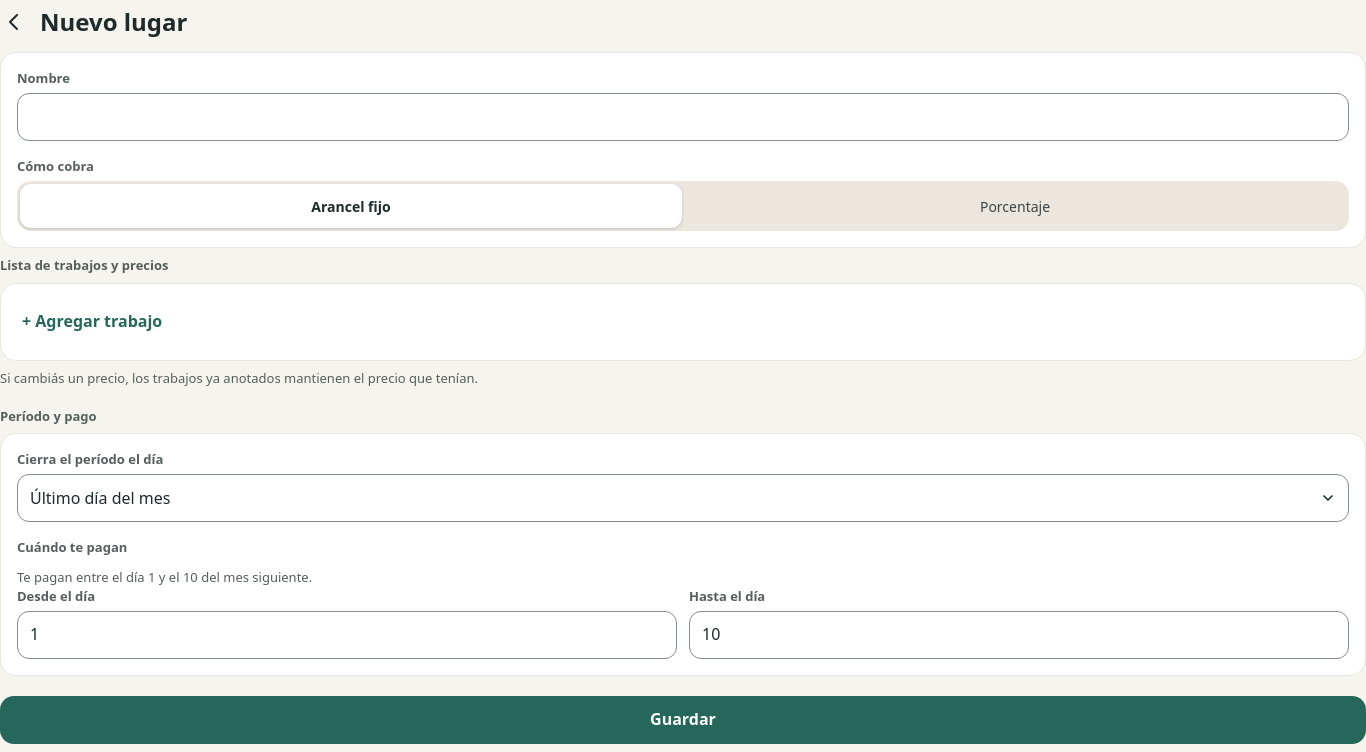
Scenario: nuevo lugar › un monto válido se reformatea al salir del campo
Step 1. Click the button "+ Agregar trabajo" → {"x": 92, "y": 322}, box x1=17 y1=300 x2=167 y2=344
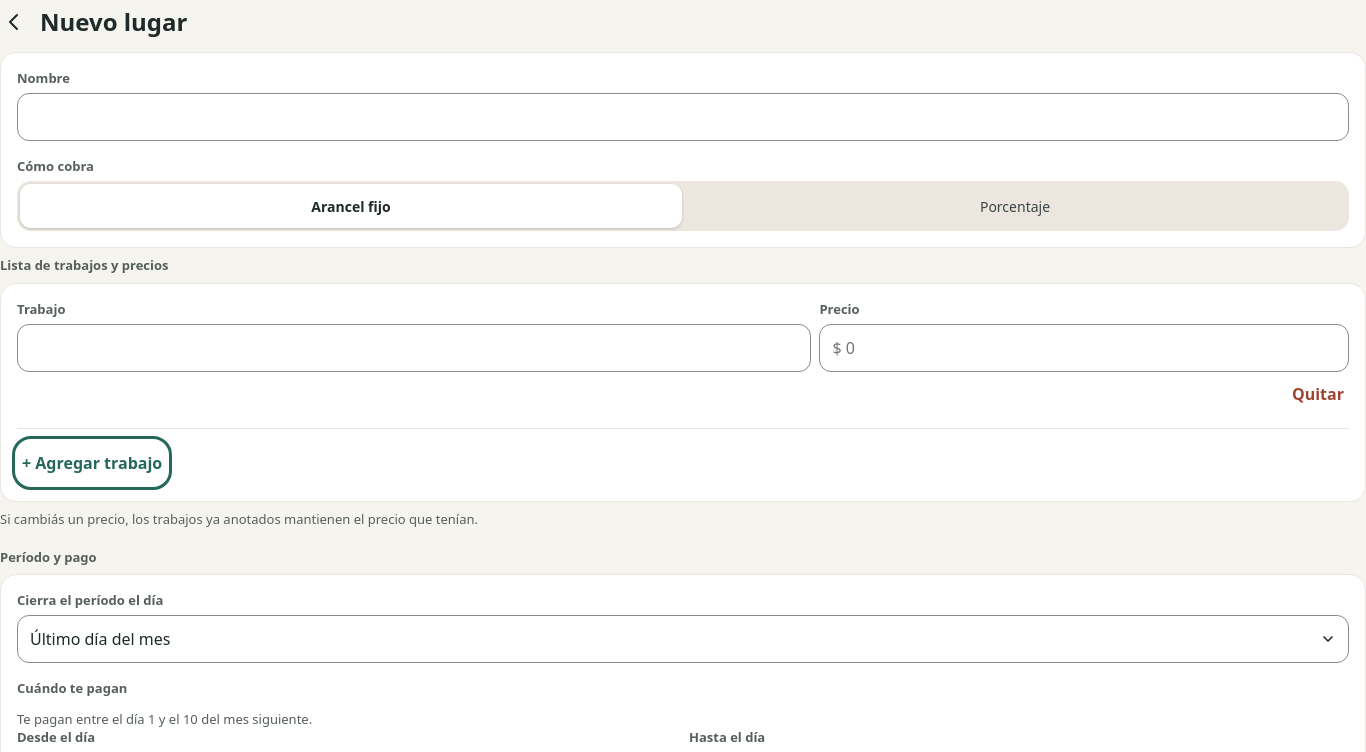
Step 2. Type "1234,5" into the field labelled "Precio" → {"x": 1084, "y": 348}, box x1=819 y1=324 x2=1349 y2=372
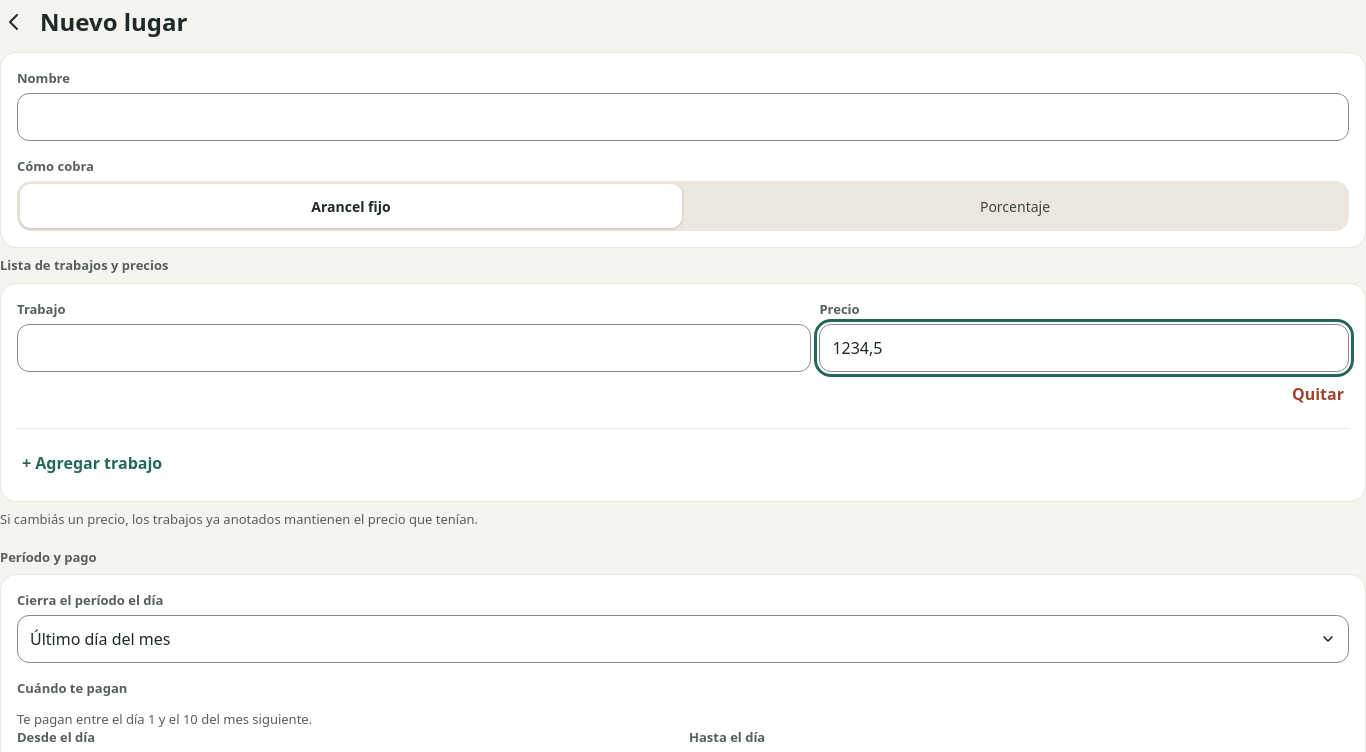
Step 3. Press Tab
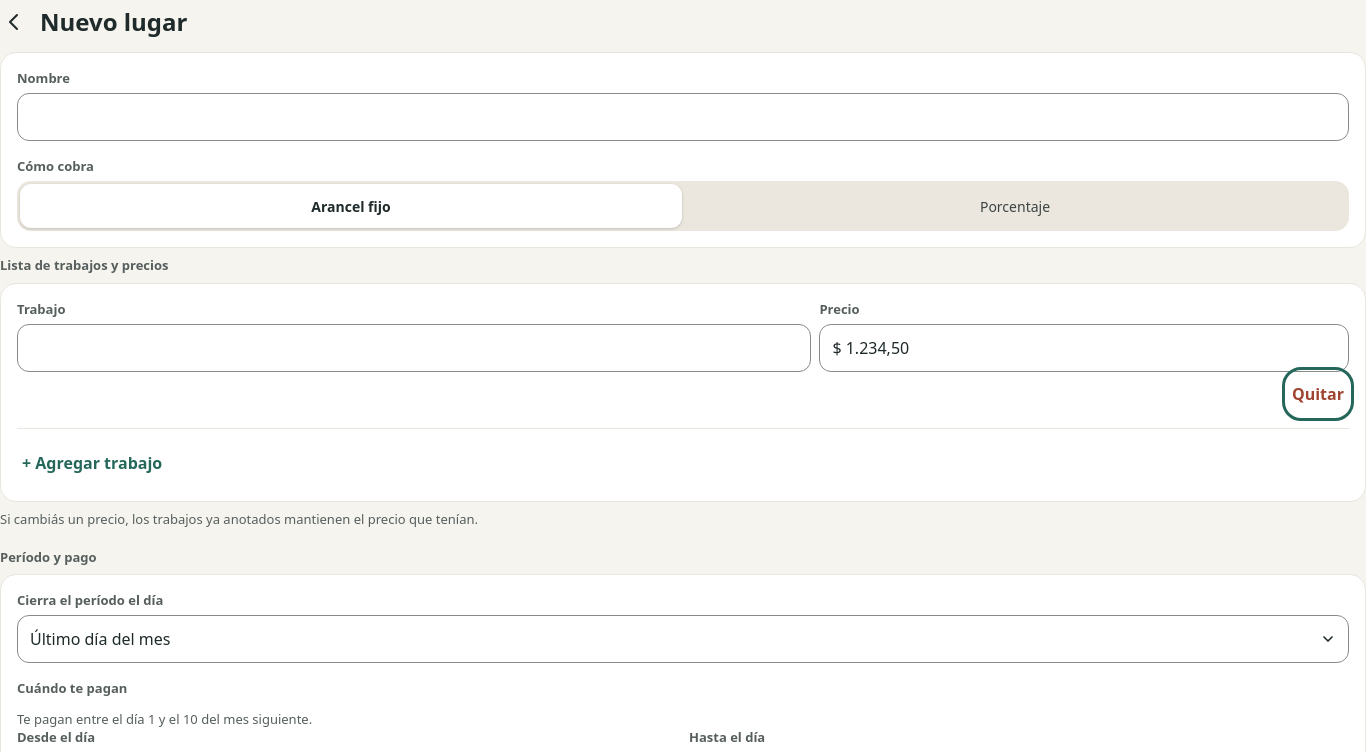
Expected: the field labelled "Precio" holds "$ 1.234,50", x1=819 y1=324 x2=1349 y2=372
